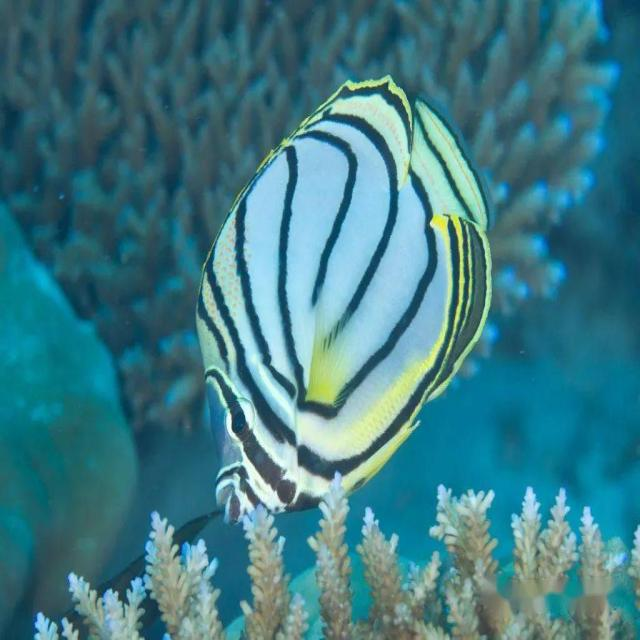ButterflyFish: (196, 76, 493, 520)
